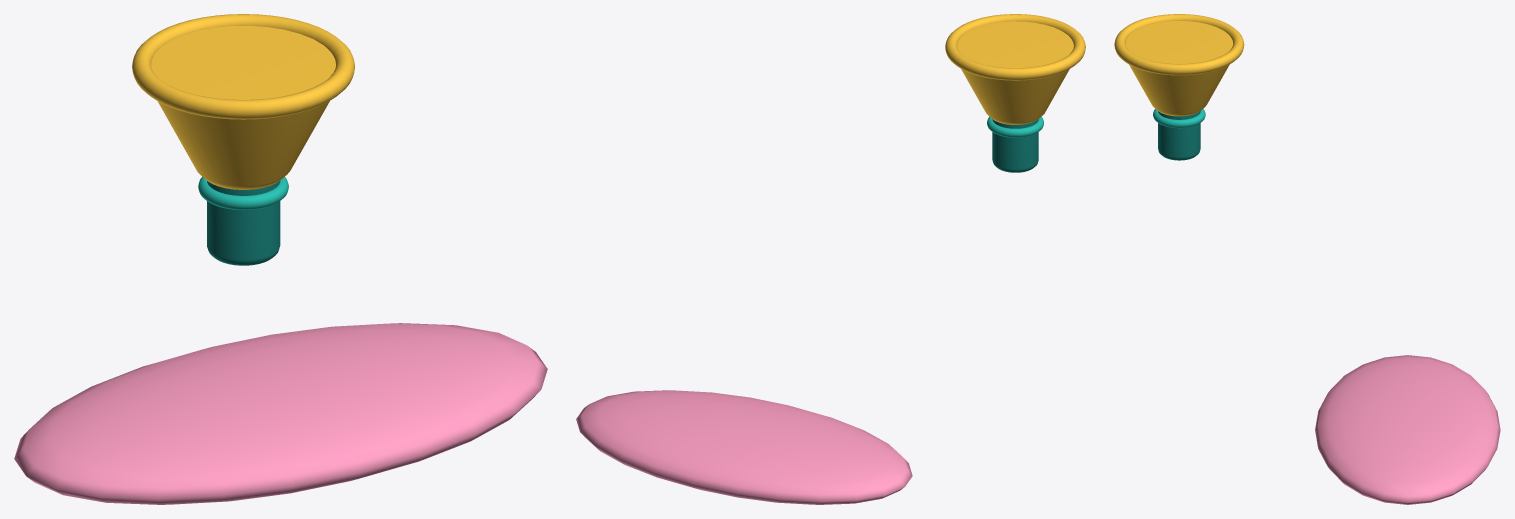
Rendered from IncubatorPort.fbx.
3 renders of one model, left to right at view 1: azimuth 30°, elevation 25°; view 2: azimuth 150°, elevation 25°; view 3: azimuth 270°, elevation 25°, orthographic. The views are drawn at different scales.
Visible parts, largest first — view 1: IncubatorPort mesh; view 2: IncubatorPort mesh; view 3: IncubatorPort mesh.
Part boxes in pixels (bbox=[...]): IncubatorPort mesh: bbox=[14, 14, 547, 504]; IncubatorPort mesh: bbox=[576, 14, 1085, 504]; IncubatorPort mesh: bbox=[1114, 14, 1500, 504].
Size of the model in its own units: 0.551 by 0.531 by 0.541.
